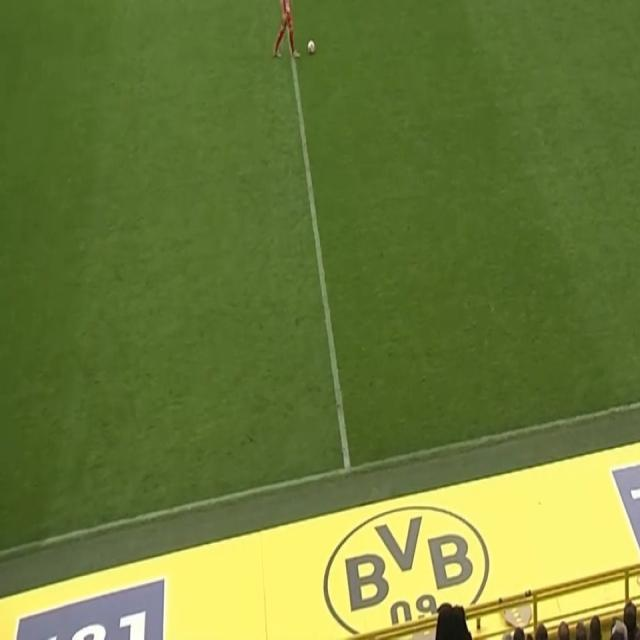ball: (306, 36, 317, 56)
